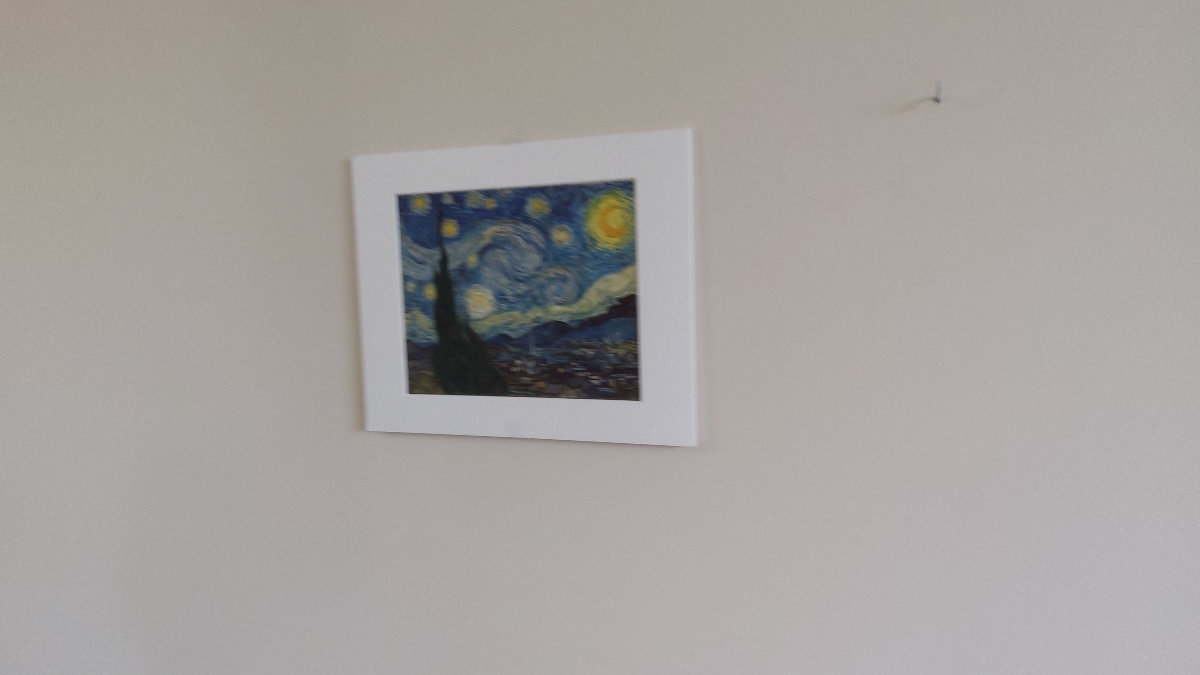painting: (389, 177, 653, 408)
